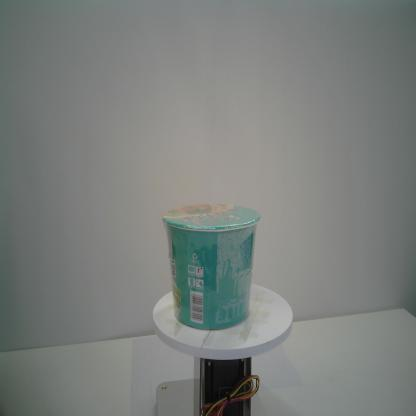Instant Noodles: (162, 201, 261, 330)
